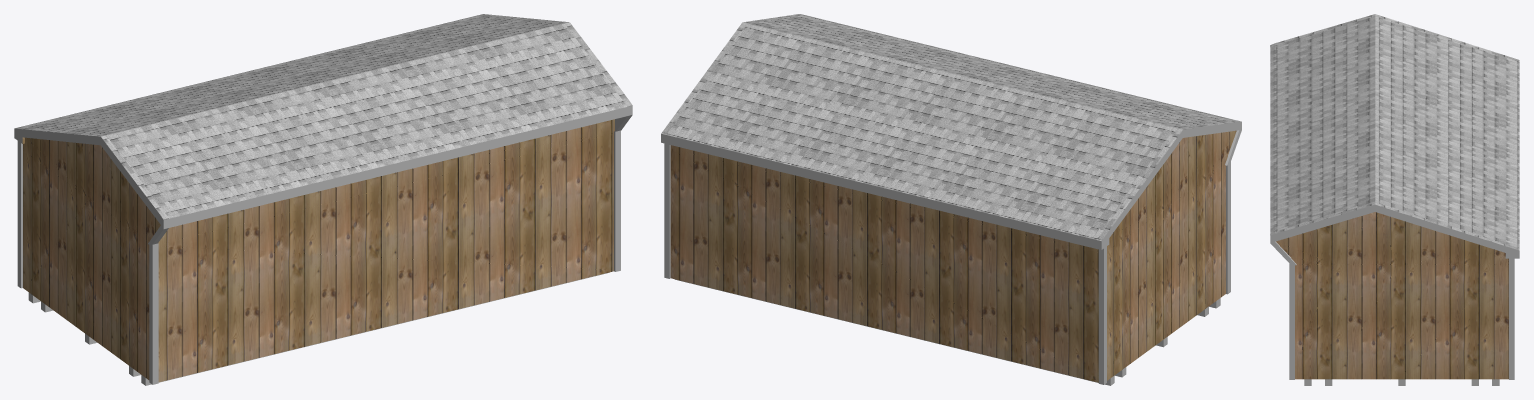
The model's file is Quaker Sheds_10x20.obj.
3 renders of one model, left to right at view 1: azimuth 30°, elevation 25°; view 2: azimuth 150°, elevation 25°; view 3: azimuth 270°, elevation 25°, orthographic. The views are drawn at different scales.
Visible parts, largest first — view 1: Shed, Roof, Sides, Trim, Floor; view 2: Shed, Roof, Sides, Trim, Floor; view 3: Roof, Shed, Sides, Trim, Floor.
Part boxes in pixels (x1=…): Shed: x1=22, y1=119, x2=614, y2=382; Roof: x1=15, y1=14, x2=632, y2=219; Sides: x1=14, y1=105, x2=632, y2=246; Trim: x1=17, y1=130, x2=620, y2=384; Floor: x1=28, y1=272, x2=609, y2=385; Shed: x1=670, y1=130, x2=1236, y2=382; Roof: x1=661, y1=14, x2=1240, y2=240; Sides: x1=661, y1=121, x2=1241, y2=249; Trim: x1=664, y1=143, x2=1230, y2=384; Floor: x1=675, y1=279, x2=1220, y2=385; Roof: x1=1270, y1=14, x2=1519, y2=250; Shed: x1=1276, y1=212, x2=1508, y2=379; Sides: x1=1270, y1=204, x2=1519, y2=265; Trim: x1=1289, y1=258, x2=1514, y2=379; Floor: x1=1304, y1=379, x2=1499, y2=385.
Size of the model in its own units: 6.16 by 2.74 by 3.4.
